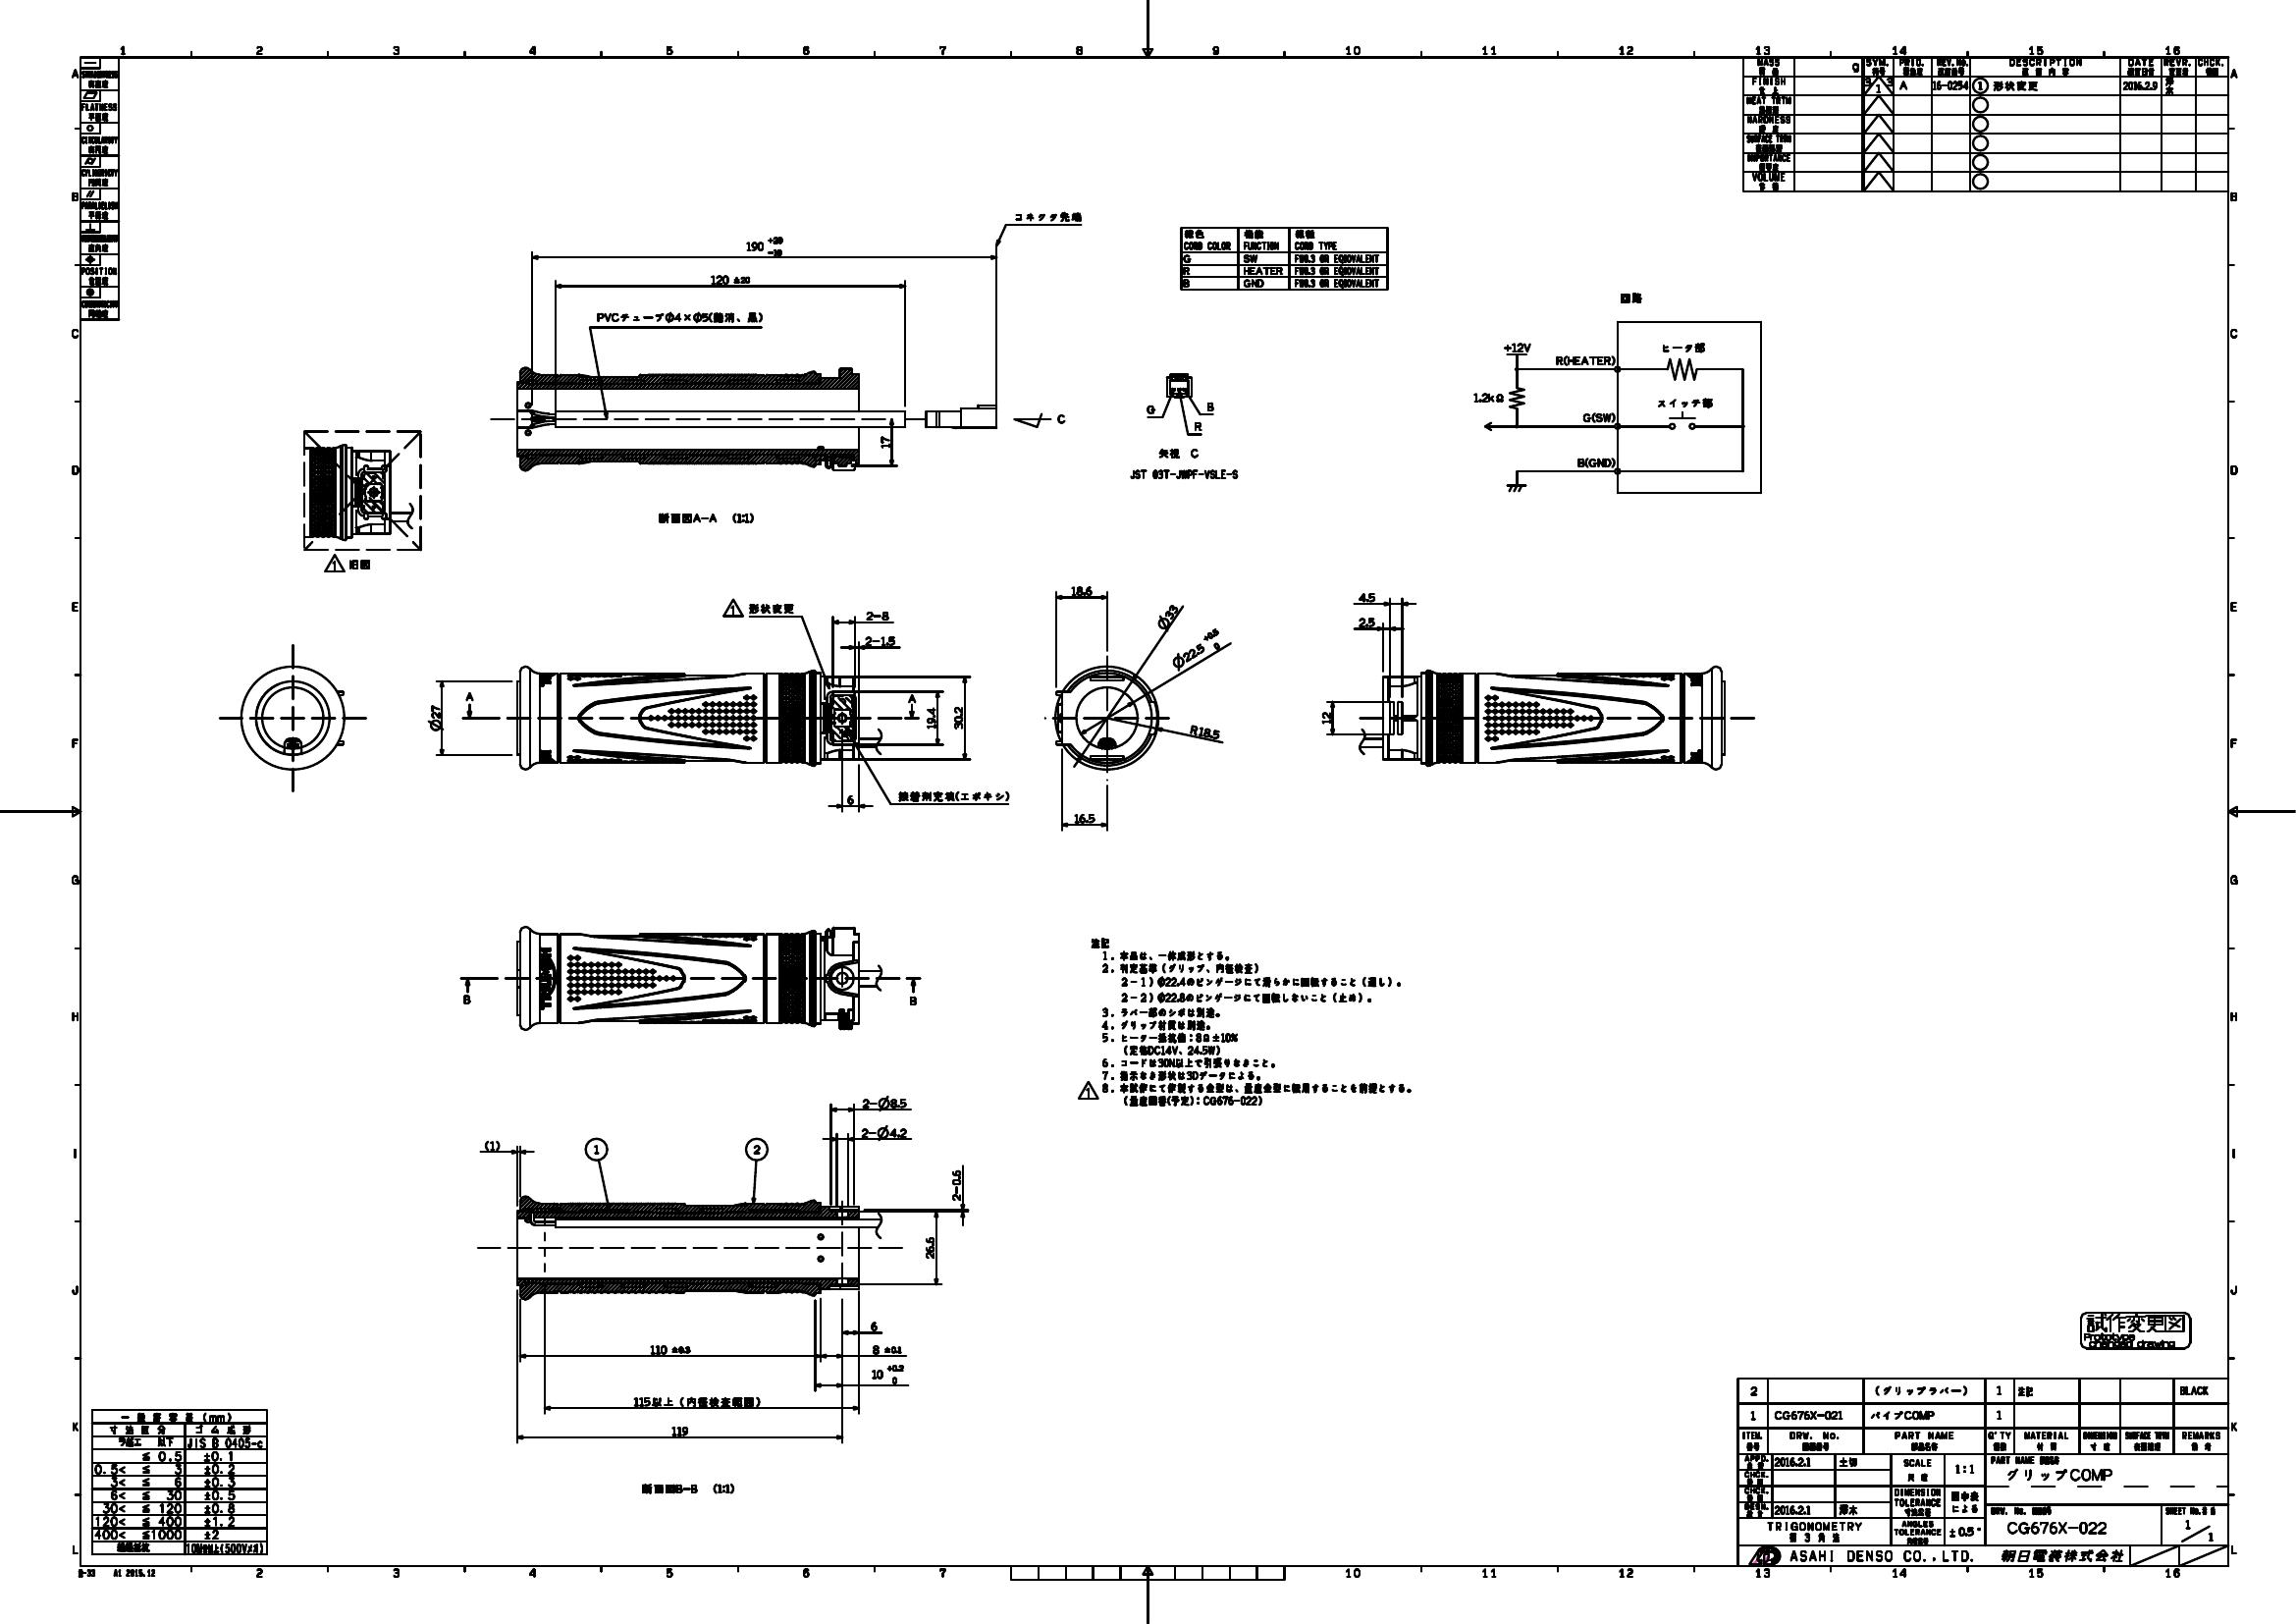anntotation_text: (1075, 937, 1412, 1107), (2080, 1311, 2192, 1350), (720, 598, 794, 619), (898, 791, 1008, 803), (657, 510, 754, 524), (1130, 468, 1238, 480), (641, 1483, 734, 1494), (323, 554, 371, 573), (1015, 211, 1082, 223), (77, 1568, 155, 1578), (583, 1137, 608, 1160), (745, 1137, 769, 1160), (1158, 448, 1198, 459), (483, 1139, 499, 1151), (1191, 420, 1203, 432), (1056, 413, 1066, 425), (1145, 404, 1156, 415), (464, 689, 473, 701), (906, 692, 915, 703), (908, 995, 917, 1005), (1205, 401, 1214, 411), (462, 993, 469, 1004)
dimension_text: (596, 311, 762, 323), (632, 1396, 761, 1408), (1168, 640, 1224, 661), (861, 1095, 906, 1113), (861, 1125, 906, 1142), (871, 1366, 905, 1385), (747, 237, 782, 255), (427, 705, 444, 731), (1154, 608, 1182, 624), (950, 1167, 963, 1202), (1191, 724, 1221, 738), (711, 274, 750, 285), (648, 1345, 690, 1353), (922, 1236, 936, 1260), (864, 634, 896, 645), (952, 707, 964, 729), (871, 1345, 903, 1353), (671, 1422, 689, 1438), (1358, 615, 1375, 629), (866, 610, 889, 620), (926, 707, 936, 729), (1073, 812, 1096, 823), (1070, 585, 1093, 596), (1358, 592, 1375, 603), (1321, 710, 1332, 724), (845, 793, 856, 805), (870, 1320, 878, 1330)
object: (515, 366, 998, 471), (515, 1193, 884, 1301), (515, 924, 882, 1032), (516, 664, 882, 772), (1356, 666, 1727, 770), (1052, 664, 1159, 772), (239, 664, 346, 772), (302, 443, 415, 541), (1165, 373, 1193, 399)
title_block: (1736, 1376, 2229, 1568), (1741, 56, 2227, 192), (91, 1408, 269, 1555), (1179, 225, 1390, 290), (79, 54, 119, 320)
